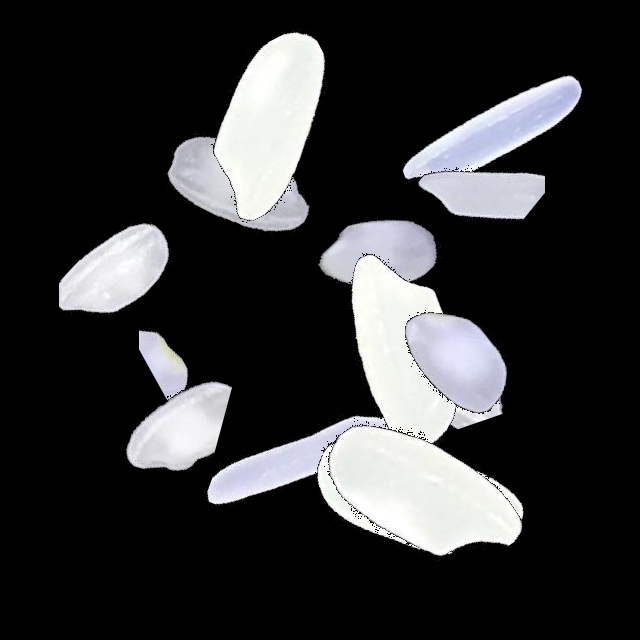Broken: (59, 174, 229, 424), (377, 36, 545, 286), (317, 271, 567, 430), (18, 335, 268, 493), (139, 210, 245, 460), (247, 274, 322, 524)
Full: (176, 334, 426, 584), (295, 375, 545, 625), (117, 58, 367, 308), (370, 9, 620, 259), (253, 130, 503, 380), (275, 228, 525, 478), (331, 236, 581, 486), (150, 0, 400, 250), (296, 365, 546, 615)
